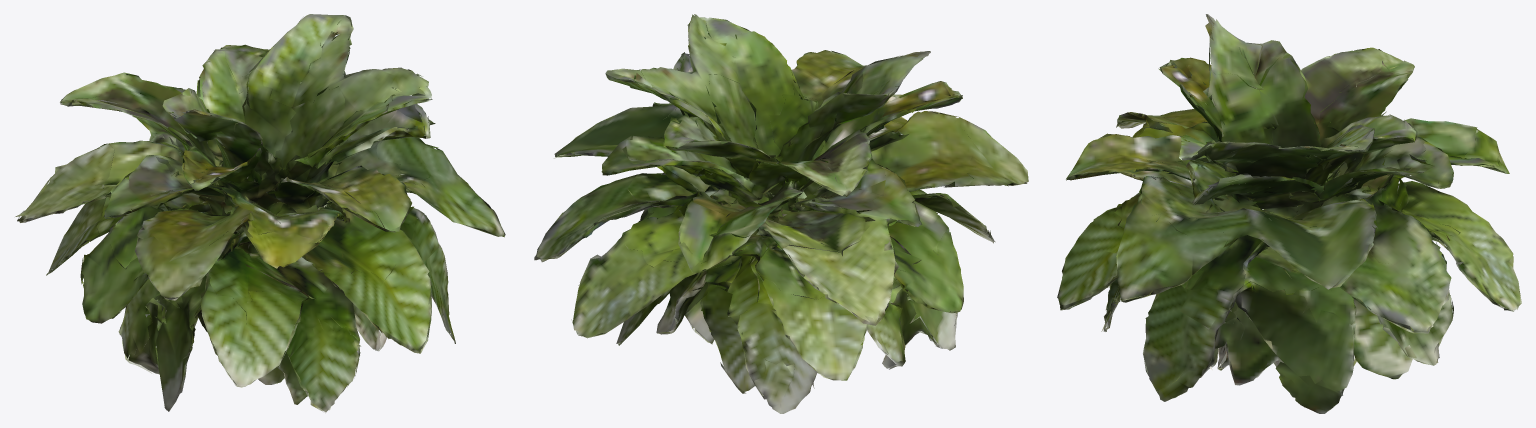
Rendered from F3D_14_Fern.fbx.
The picture shows the model from 3 angles, left to right: view 1: azimuth 30°, elevation 25°; view 2: azimuth 150°, elevation 25°; view 3: azimuth 270°, elevation 25°; orthographic projection. The views are drawn at different scales.
Visible parts, largest first — view 1: F3D_14_Fern; view 2: F3D_14_Fern; view 3: F3D_14_Fern.
Boxes of the visible parts, bbox=[...] form: F3D_14_Fern: bbox=[15, 14, 505, 412]; F3D_14_Fern: bbox=[534, 14, 1028, 413]; F3D_14_Fern: bbox=[1057, 14, 1521, 413].
Bounding box in the file's own units: 1.24 × 1 × 1.37.
